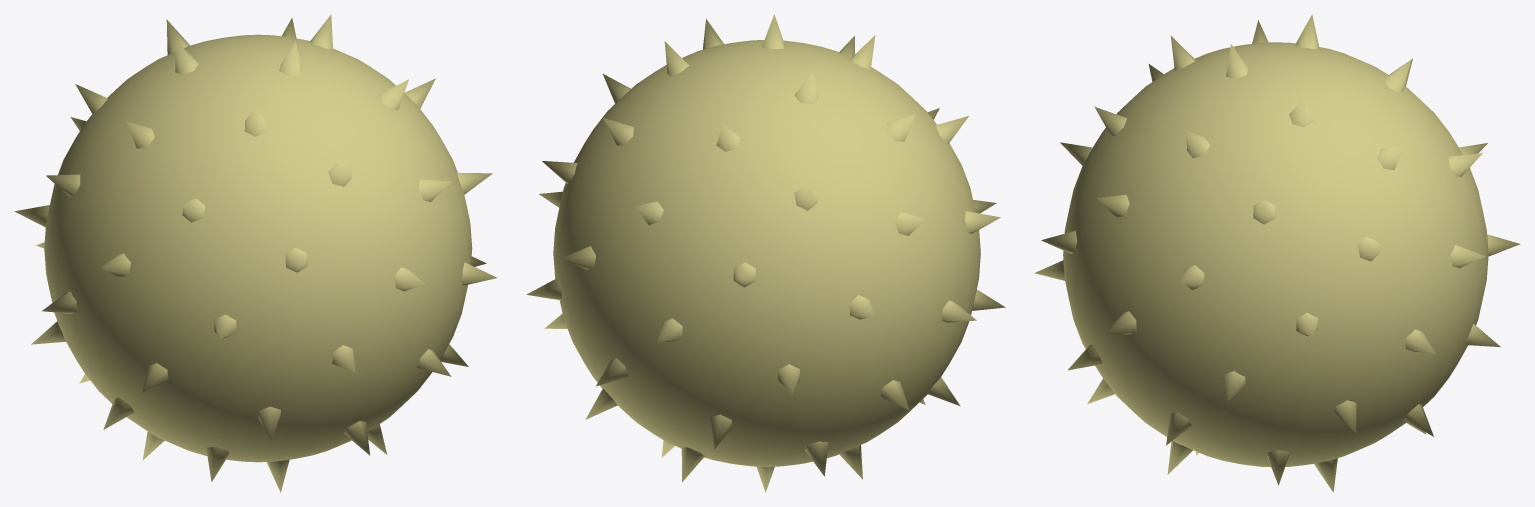
Rendered from Durian.glb.
3 renders of one model, left to right at view 1: azimuth 30°, elevation 25°; view 2: azimuth 150°, elevation 25°; view 3: azimuth 270°, elevation 25°, orthographic.
Visible parts, largest first — view 1: Durian; view 2: Durian; view 3: Durian.
Part boxes in pixels (x1=…): Durian: x1=15, y1=14, x2=497, y2=492; Durian: x1=526, y1=14, x2=1005, y2=492; Durian: x1=1034, y1=14, x2=1520, y2=492.
Bounding box in the file's own units: 1.19 × 1.18 × 1.19.
